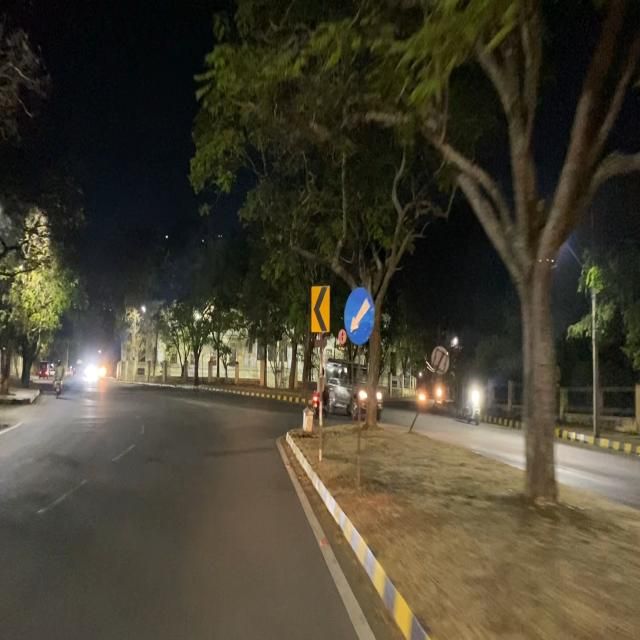bien_cam: (344, 283, 376, 349)
